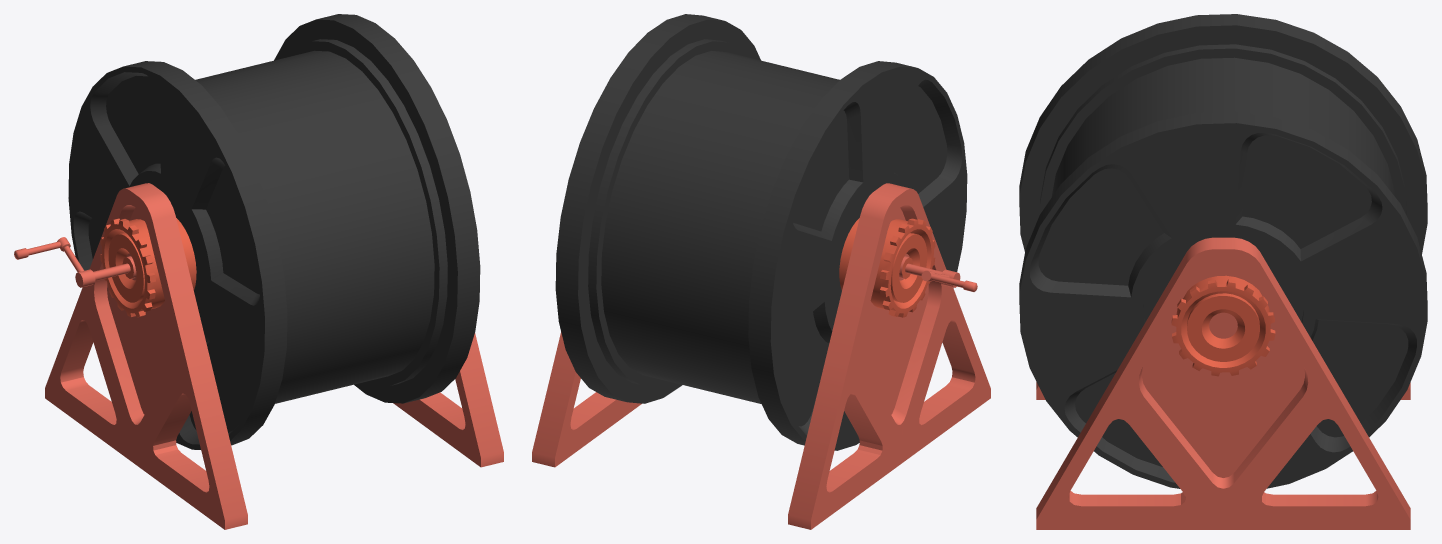
File: Spool-M00A 1.fbx
The picture shows the model from 3 angles, left to right: view 1: azimuth 30°, elevation 25°; view 2: azimuth 150°, elevation 25°; view 3: azimuth 270°, elevation 25°; orthographic projection. The views are drawn at different scales.
Parts seen in each view (by area): view 1: Spool-M00A; view 2: Spool-M00A; view 3: Spool-M00A.
Boxes of the visible parts, bbox=[...] form: Spool-M00A: bbox=[14, 14, 503, 529]; Spool-M00A: bbox=[532, 14, 990, 529]; Spool-M00A: bbox=[1019, 14, 1427, 529].
Size of the model in its own units: 307 by 285 by 270.
